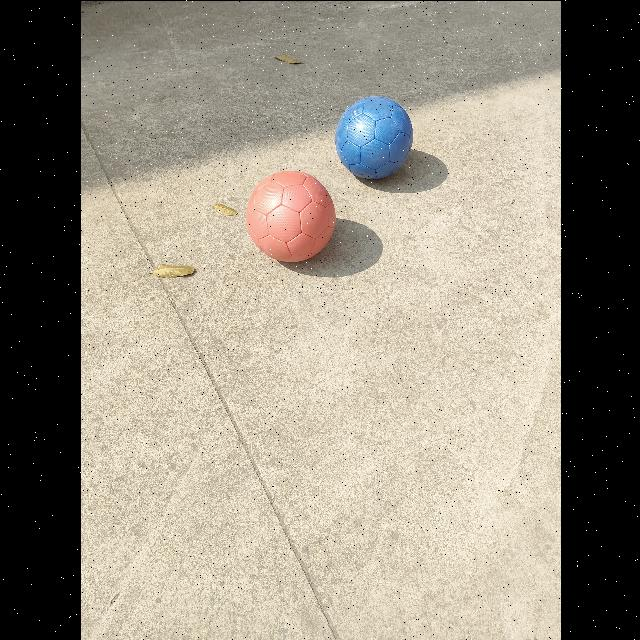B: (334, 96, 413, 183)
R: (243, 170, 336, 265)
